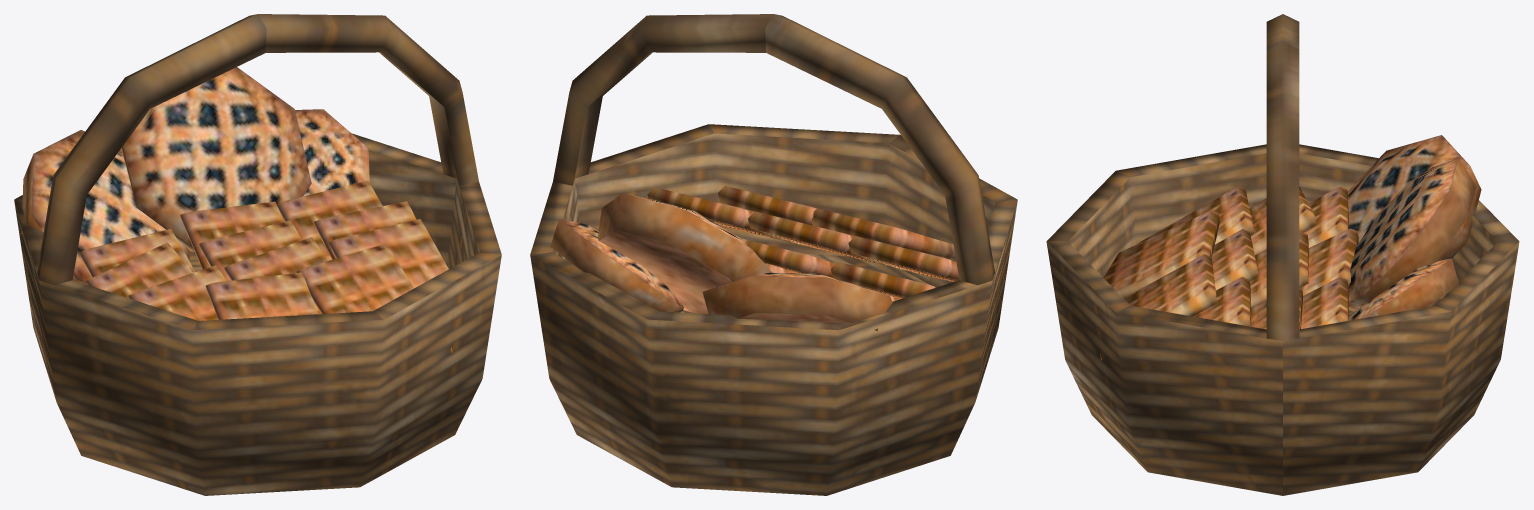
Rendered from basket-of-pastries.glb.
The picture shows the model from 3 angles, left to right: view 1: azimuth 30°, elevation 25°; view 2: azimuth 150°, elevation 25°; view 3: azimuth 270°, elevation 25°; orthographic projection. The views are drawn at different scales.
Visible parts, largest first — view 1: basket, pie03.001, pie03, waffle.010, pie03.002, waffle.009, waffle.006, waffle, waffle.001, waffle.005, waffle.008, waffle.004 (+3 smaller); view 2: basket, pie03.001, pie03, pie03.002, waffle.009, waffle.008, waffle.007, waffle.006, waffle.010, waffle.005, waffle.004; view 3: basket, pie03.001, pie03, waffle.009, waffle.010, pie03.002, waffle.001, waffle.007, waffle.008, waffle, waffle.002, waffle.006 (+3 smaller).
Part boxes in pixels (x1,y1,x2,y2): basket: [14, 14, 501, 495]; pie03.001: [121, 67, 311, 251]; pie03: [21, 130, 189, 284]; waffle.010: [296, 243, 453, 353]; pie03.002: [295, 109, 369, 196]; waffle.009: [205, 272, 318, 319]; waffle.006: [328, 219, 448, 287]; waffle: [277, 180, 382, 260]; waffle.001: [180, 201, 283, 269]; waffle.005: [85, 242, 192, 298]; waffle.008: [128, 265, 226, 320]; waffle.004: [199, 220, 301, 281]; basket: [530, 14, 1017, 495]; pie03.001: [597, 193, 771, 313]; pie03: [702, 272, 892, 331]; pie03.002: [550, 218, 684, 312]; waffle.009: [811, 208, 956, 261]; waffle.008: [848, 236, 959, 281]; waffle.007: [748, 211, 886, 265]; waffle.006: [647, 187, 793, 243]; waffle.010: [718, 185, 816, 225]; waffle.005: [831, 262, 936, 298]; waffle.004: [740, 238, 835, 277]; basket: [1046, 14, 1519, 495]; pie03.001: [1348, 157, 1476, 311]; pie03: [1348, 135, 1481, 260]; waffle.009: [1103, 210, 1219, 298]; waffle.010: [1100, 254, 1216, 360]; pie03.002: [1348, 258, 1458, 320]; waffle.001: [1300, 228, 1358, 295]; waffle.007: [1211, 229, 1258, 290]; waffle.008: [1138, 186, 1253, 244]; waffle: [1301, 276, 1348, 328]; waffle.002: [1303, 186, 1348, 247]; waffle.006: [1193, 276, 1250, 326].
Size of the model in its own units: 0.2661 by 0.2318 by 0.2661.
2 materials, 2 textured.
